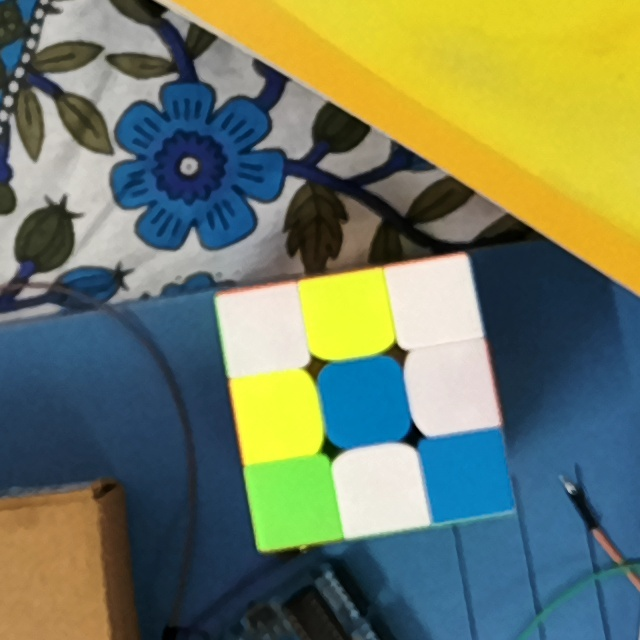tile: (344, 456, 418, 526), (328, 367, 399, 438), (420, 351, 488, 422), (228, 297, 296, 366), (432, 442, 501, 510), (400, 267, 467, 335), (260, 467, 327, 535), (314, 282, 383, 348), (245, 382, 311, 449)
